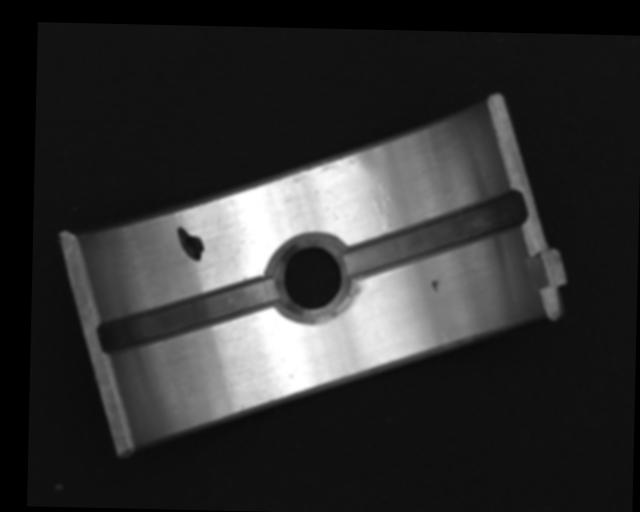blot: (175, 226, 205, 262)
bruise: (430, 279, 440, 293)
gap: (345, 187, 524, 282), (98, 278, 276, 358)
hole: (277, 236, 350, 324)
nick: (368, 180, 391, 230)
